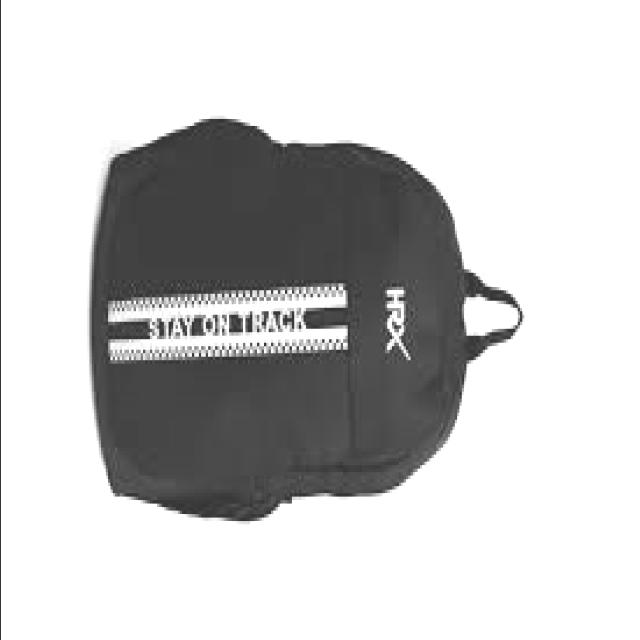backpack: (92, 117, 525, 523)
